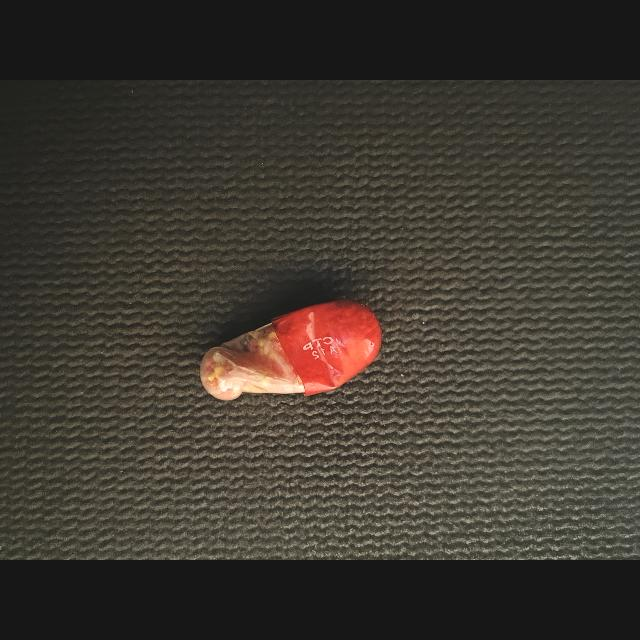Defective Capsule: (200, 300, 382, 401)
